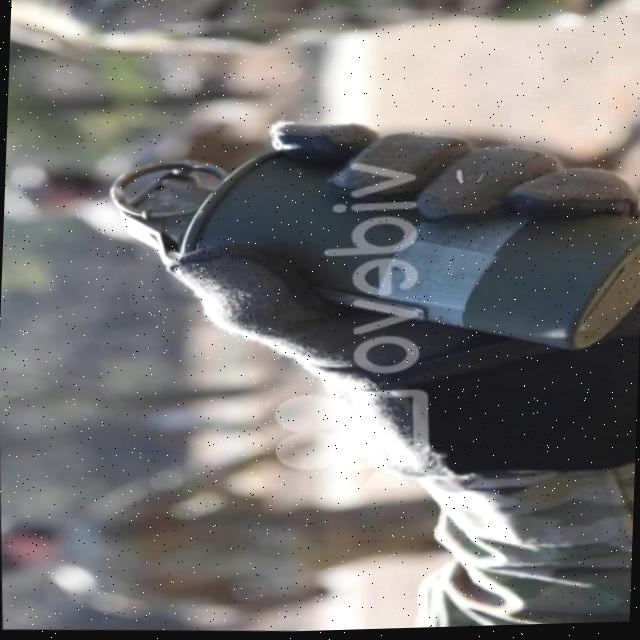grenade: (100, 101, 640, 386)
